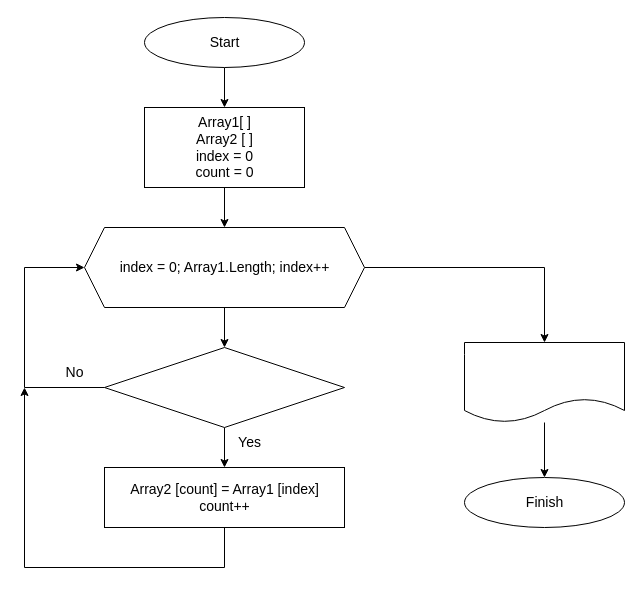
This 642x593 diagram has some shape labels left out. The shapes that lost their labels are listed below. From the top down, each one's centre as x and y in pixels, then its label:
point (224, 387): Array1 [index].Length <= 3
point (544, 382): Print Array2 [ ]
